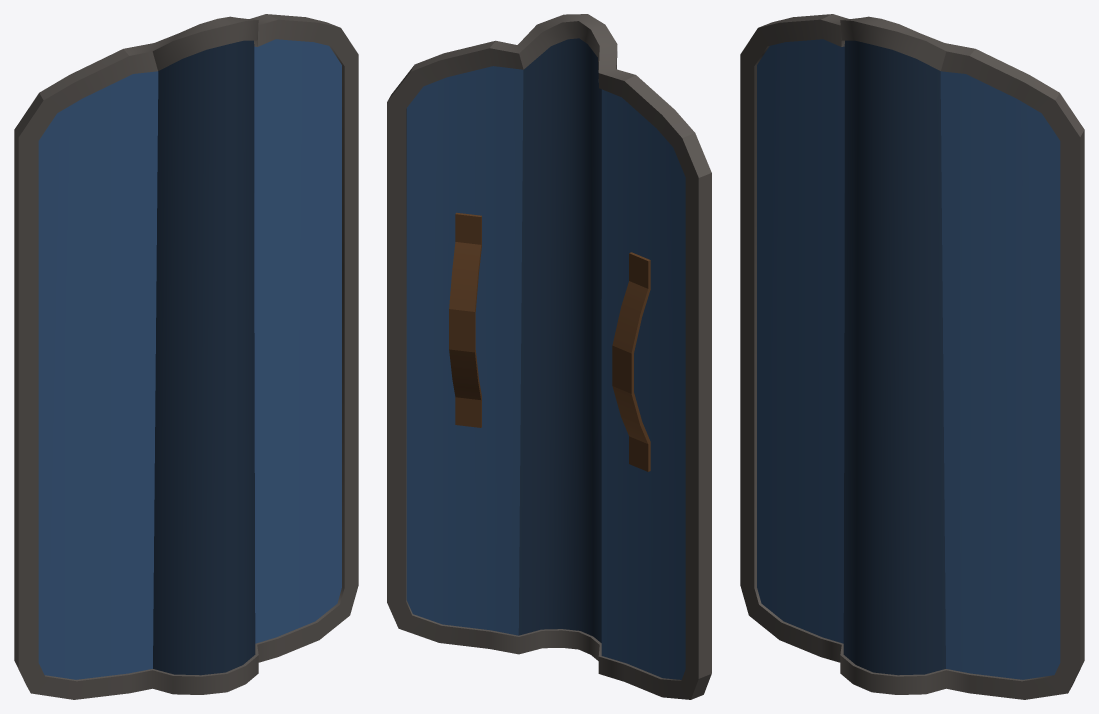
The model's file is Pavise Shield_Blue.glb.
3 renders of one model, left to right at view 1: azimuth 30°, elevation 25°; view 2: azimuth 150°, elevation 25°; view 3: azimuth 330°, elevation 25°, orthographic. The views are drawn at different scales.
Parts seen in each view (by area): view 1: Pavise Shield_Blue; view 2: Pavise Shield_Blue; view 3: Pavise Shield_Blue.
Part boxes in pixels (box(x1,y1,x2,y2)): Pavise Shield_Blue: box(14, 14, 358, 699); Pavise Shield_Blue: box(387, 14, 711, 699); Pavise Shield_Blue: box(740, 14, 1084, 699).
Bounding box in the file's own units: 0.6521 × 1.22 × 0.1693.
Materials: 1 (1 with a texture image).
